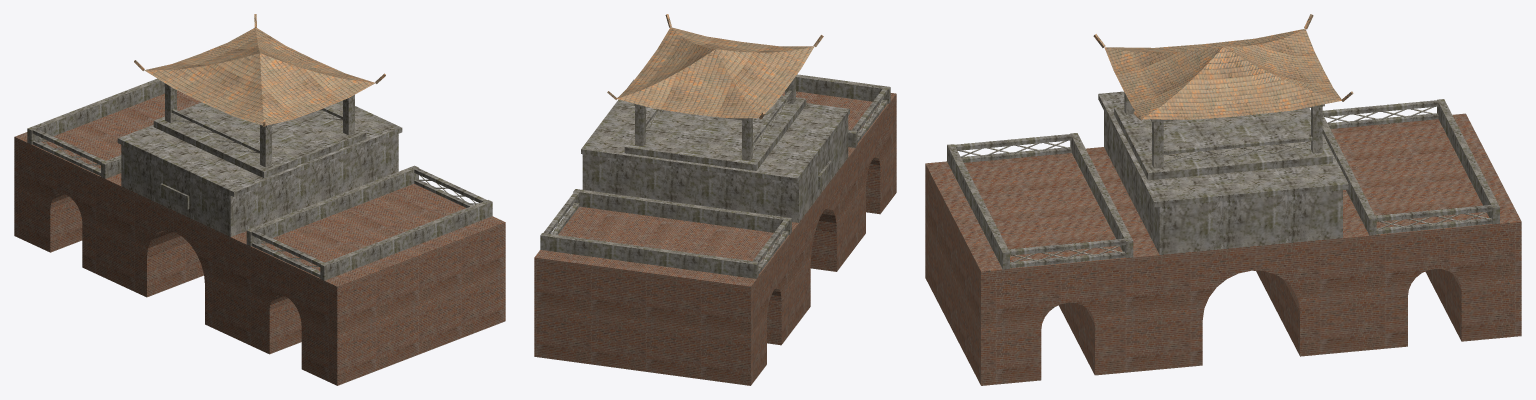
The model's file is o_quan_chuong_lod1.glb.
3 renders of one model, left to right at view 1: azimuth 30°, elevation 25°; view 2: azimuth 150°, elevation 25°; view 3: azimuth 270°, elevation 25°, orthographic. The views are drawn at different scales.
Parts seen in each view (by area): view 1: brickwork, plaster, roof; view 2: brickwork, plaster, roof; view 3: brickwork, plaster, roof.
Part boxes in pixels (x1,y1,x2,y2): brickwork: (14, 90, 505, 385); plaster: (27, 78, 492, 280); roof: (134, 14, 385, 126); brickwork: (534, 91, 896, 385); plaster: (540, 74, 890, 278); roof: (607, 14, 823, 119); brickwork: (925, 113, 1521, 385); plaster: (947, 91, 1499, 269); roof: (1093, 14, 1353, 120).
Size of the model in its own units: 11.26 by 8.64 by 17.96.
3 materials, 3 textured.
